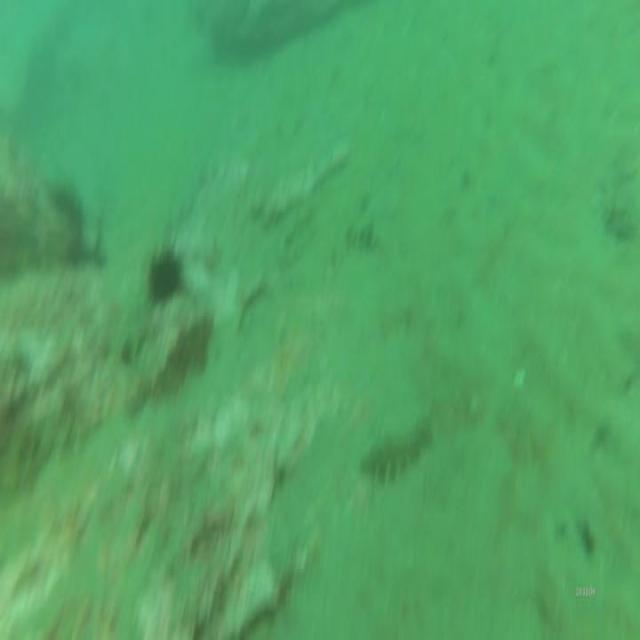echinus: (141, 234, 193, 314)
holothurian: (354, 414, 436, 491)
